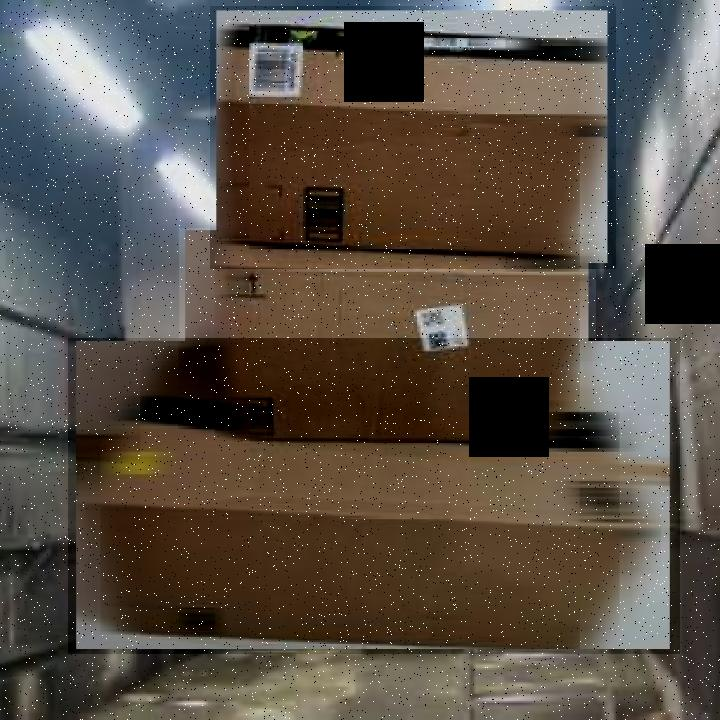box: (68, 338, 680, 654), (210, 6, 616, 269), (179, 228, 596, 470)
